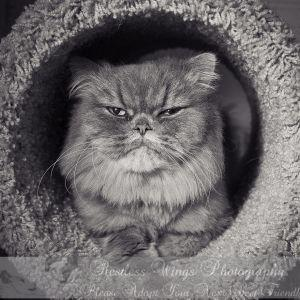persian: (59, 36, 230, 182)
